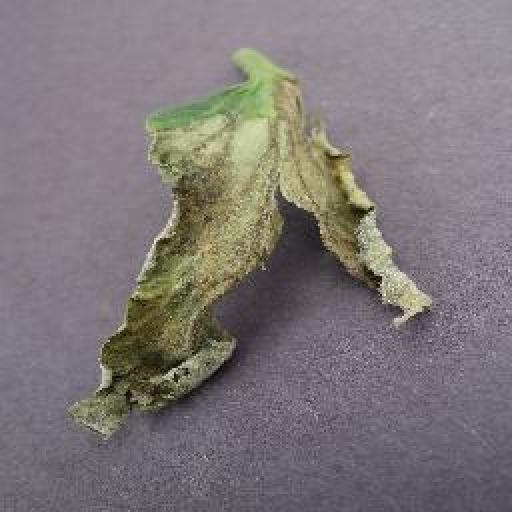Late Blight: (72, 77, 432, 439)
